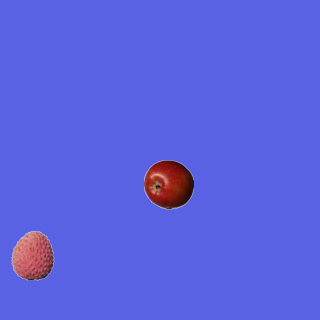Apple Braeburn: (143, 159, 193, 209)
Lychee: (7, 230, 57, 280)
